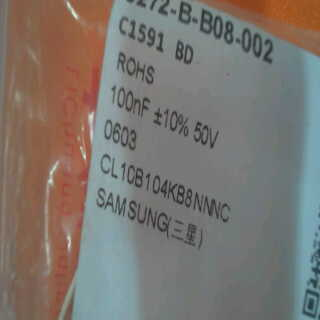100nF: (108, 80, 149, 126)
